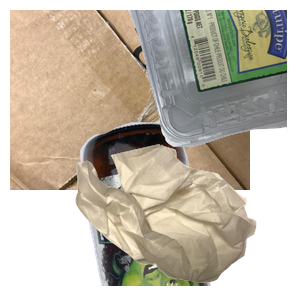cardboard: (10, 10, 250, 190)
glass: (78, 120, 281, 300)
plastic: (60, 10, 300, 149)
trash: (73, 142, 300, 300)
